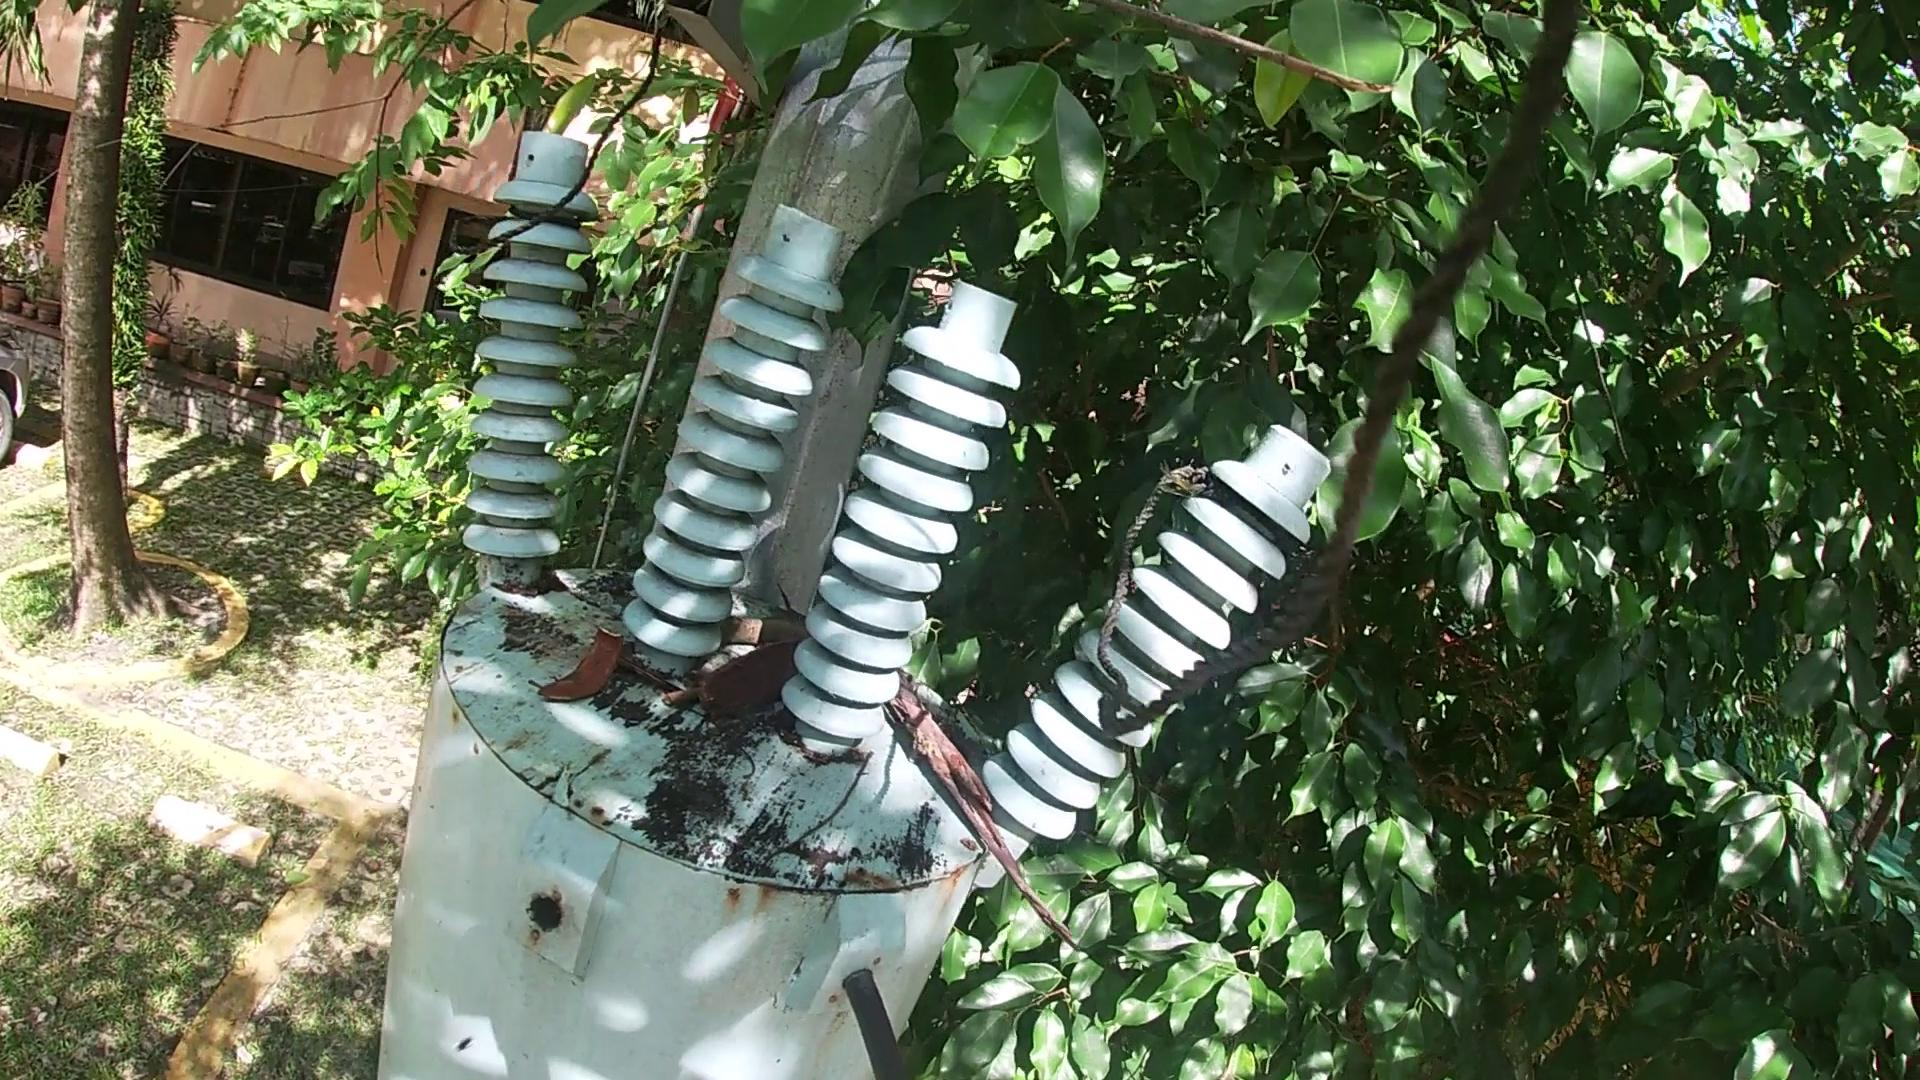mahogany fruit: (692, 647, 790, 725), (541, 633, 620, 713)
tree branch: (5, 1, 1411, 265), (891, 690, 1095, 953), (758, 746, 876, 862), (704, 729, 771, 778), (717, 622, 796, 647), (655, 684, 698, 707)
